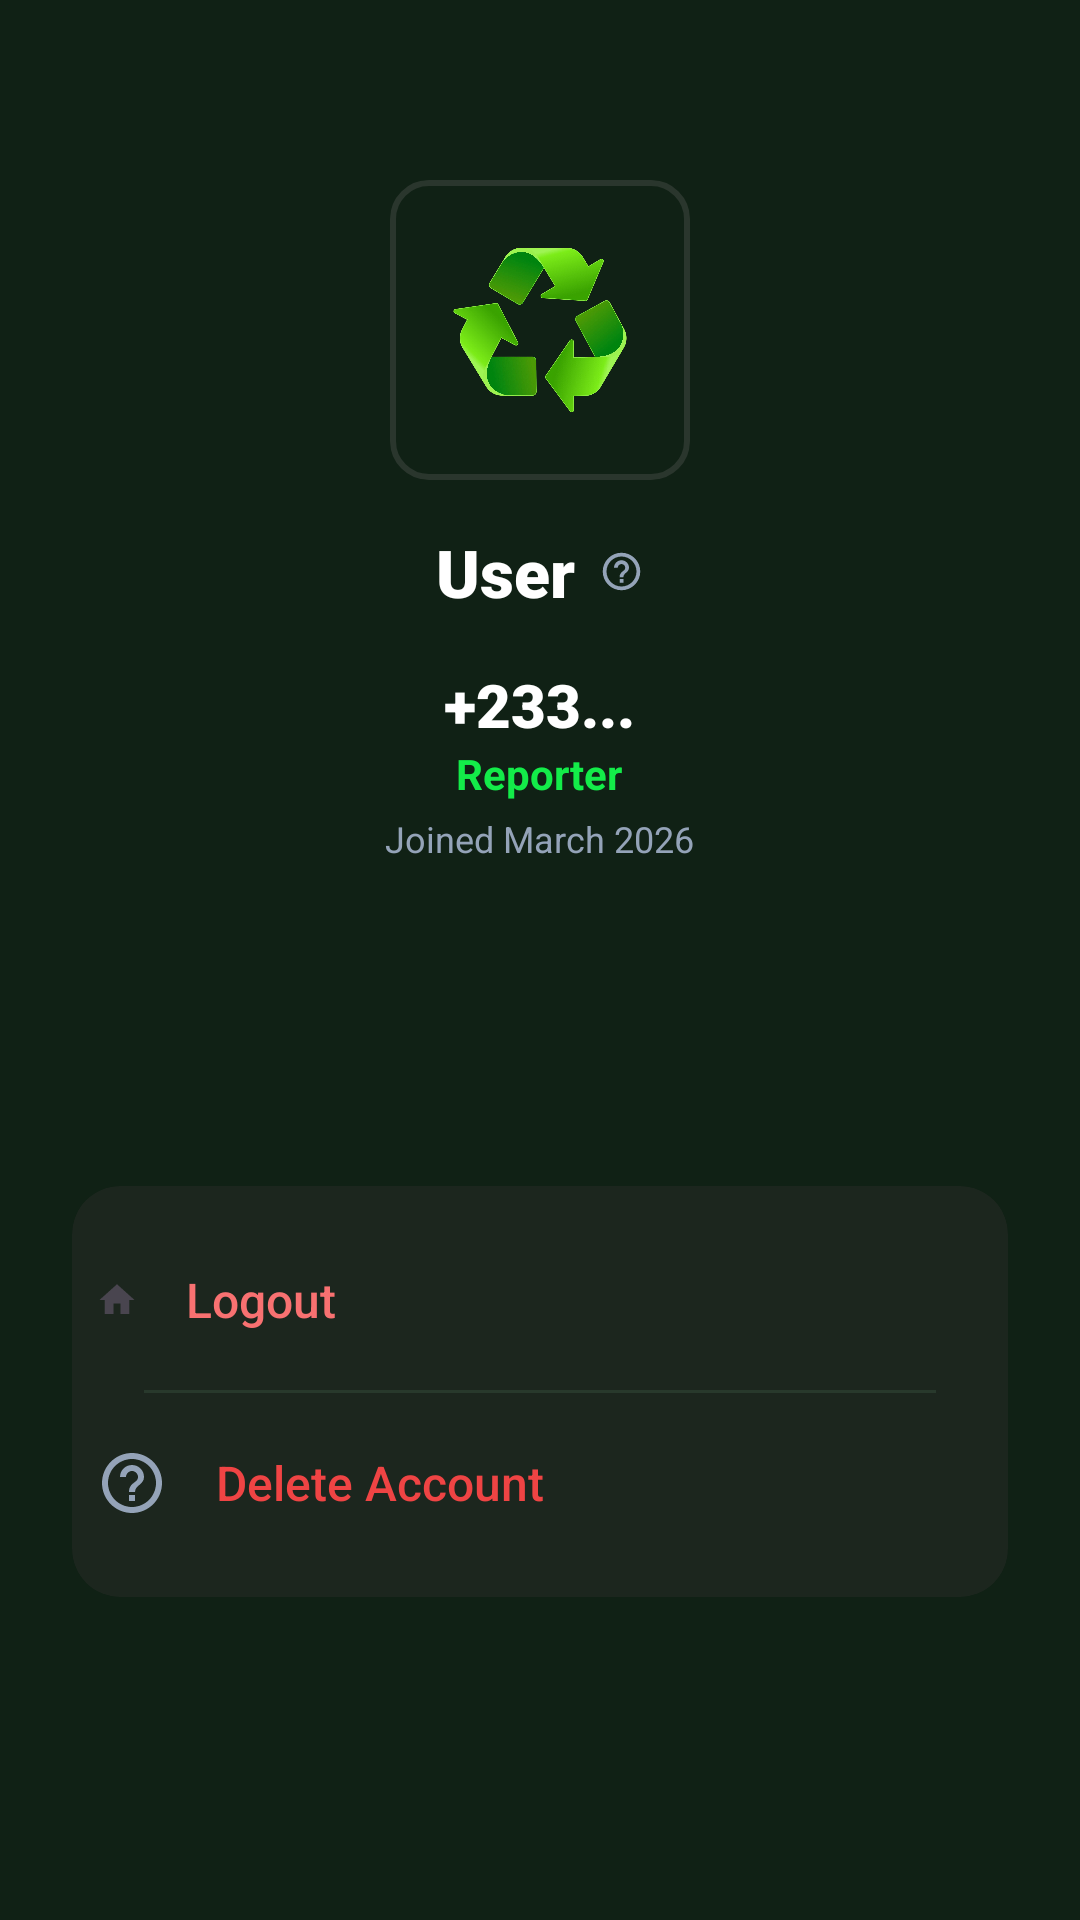

Where icons sit on this 1080 x 1920 app screen, as {"x1": x1, "y1": y1, "x2": x2, "y2": y2}:
help: {"x1": 602, "y1": 552, "x2": 641, "y2": 591}
